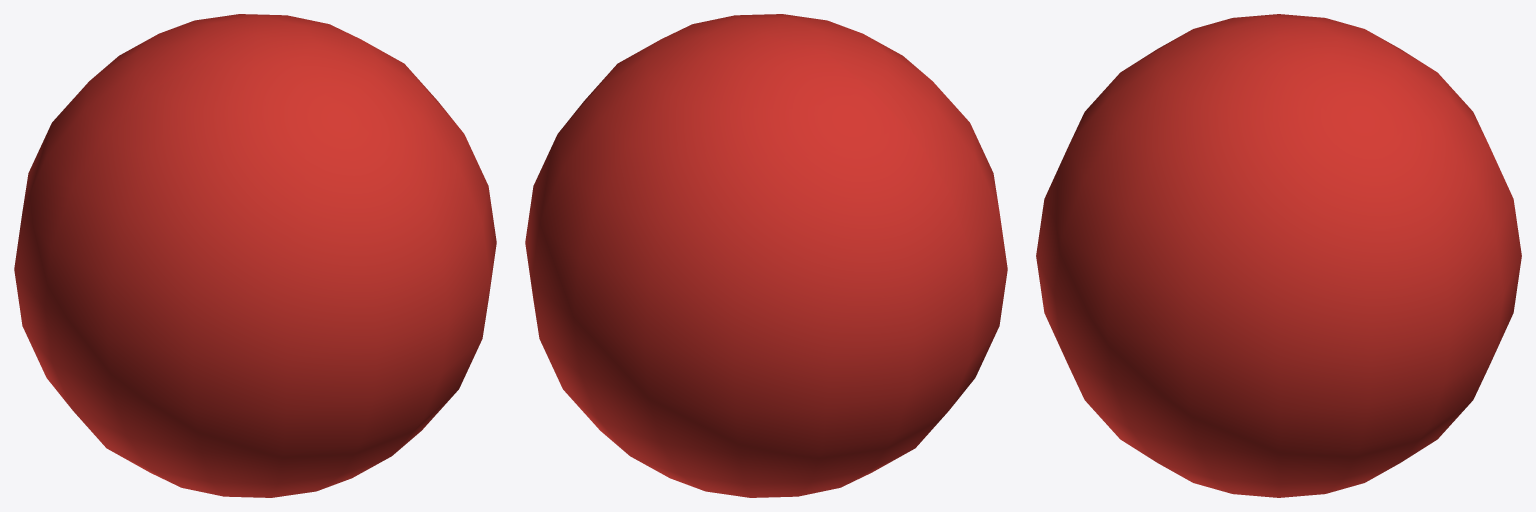
The model's file is candy_009.glb.
3 views of the same model, side by side, from view 1: azimuth 30°, elevation 25°; view 2: azimuth 150°, elevation 25°; view 3: azimuth 270°, elevation 25° (orthographic).
Visible parts, largest first — view 1: candy_009; view 2: candy_009; view 3: candy_009.
Part boxes in pixels (<box>): candy_009: <box>14,14,496,497</box>; candy_009: <box>525,14,1007,497</box>; candy_009: <box>1036,14,1521,497</box>.
Size of the model in its own units: 1.22 by 1.22 by 1.22.
1 material, 1 textured.
